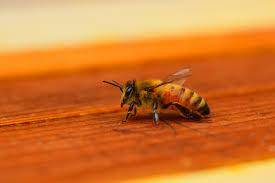Apis-mellifera-scutellata: (101, 64, 221, 137)
